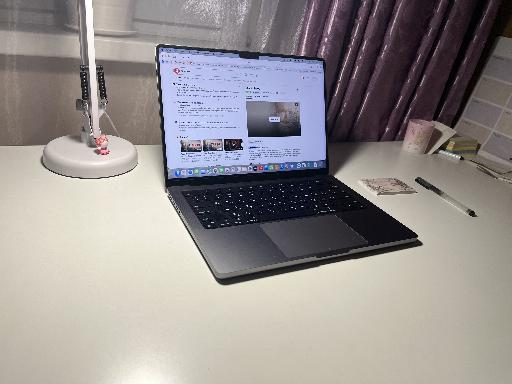yandex: (159, 65, 329, 164)
